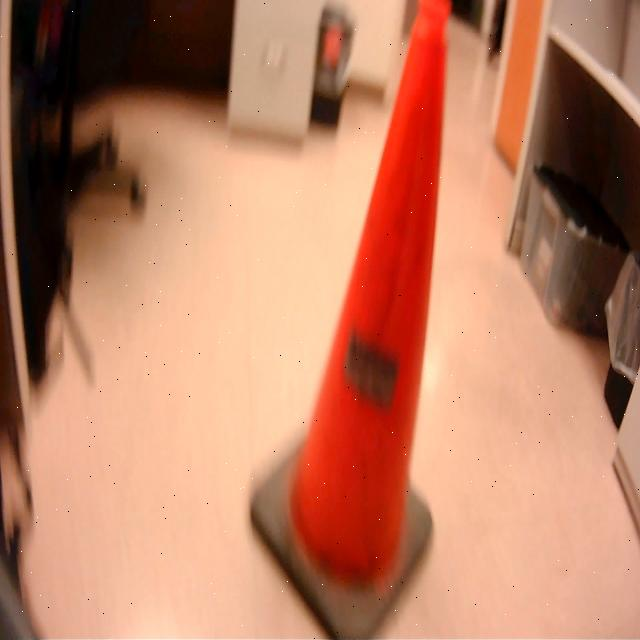traffic cone: (245, 1, 459, 640)
